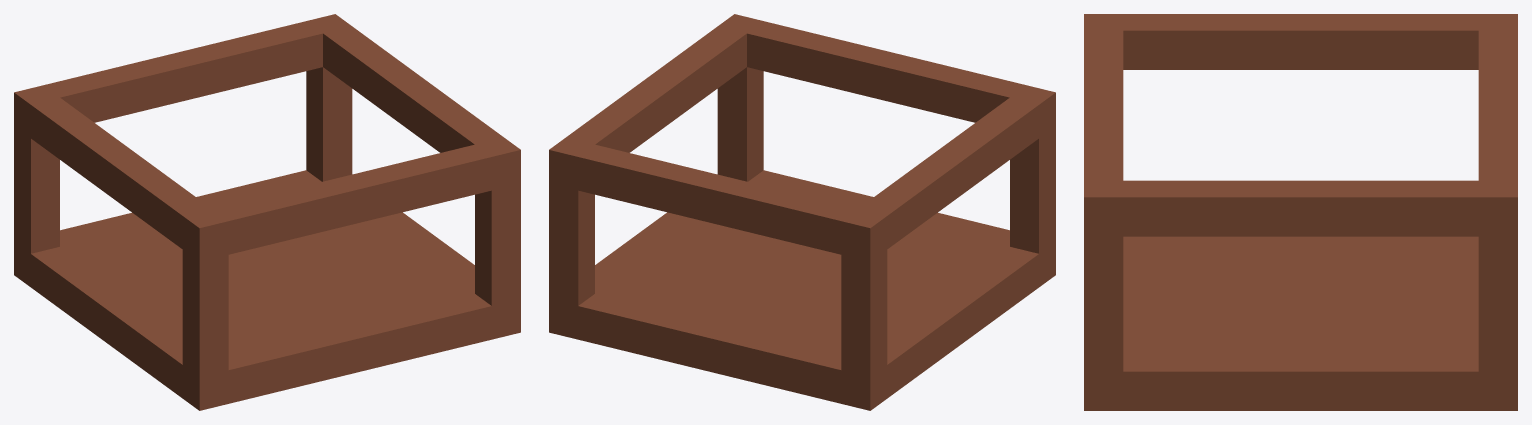
Rendered from Platform.fbx.
The picture shows the model from 3 angles, left to right: view 1: azimuth 30°, elevation 25°; view 2: azimuth 150°, elevation 25°; view 3: azimuth 270°, elevation 25°; orthographic projection. The views are drawn at different scales.
Parts seen in each view (by area): view 1: Platform; view 2: Platform; view 3: Platform.
Part boxes in pixels (x1,y1,x2,y2): Platform: [14, 14, 520, 410]; Platform: [549, 14, 1055, 410]; Platform: [1084, 14, 1517, 410].
Bounding box in the file's own units: 1.6 × 0.8692 × 1.6.
